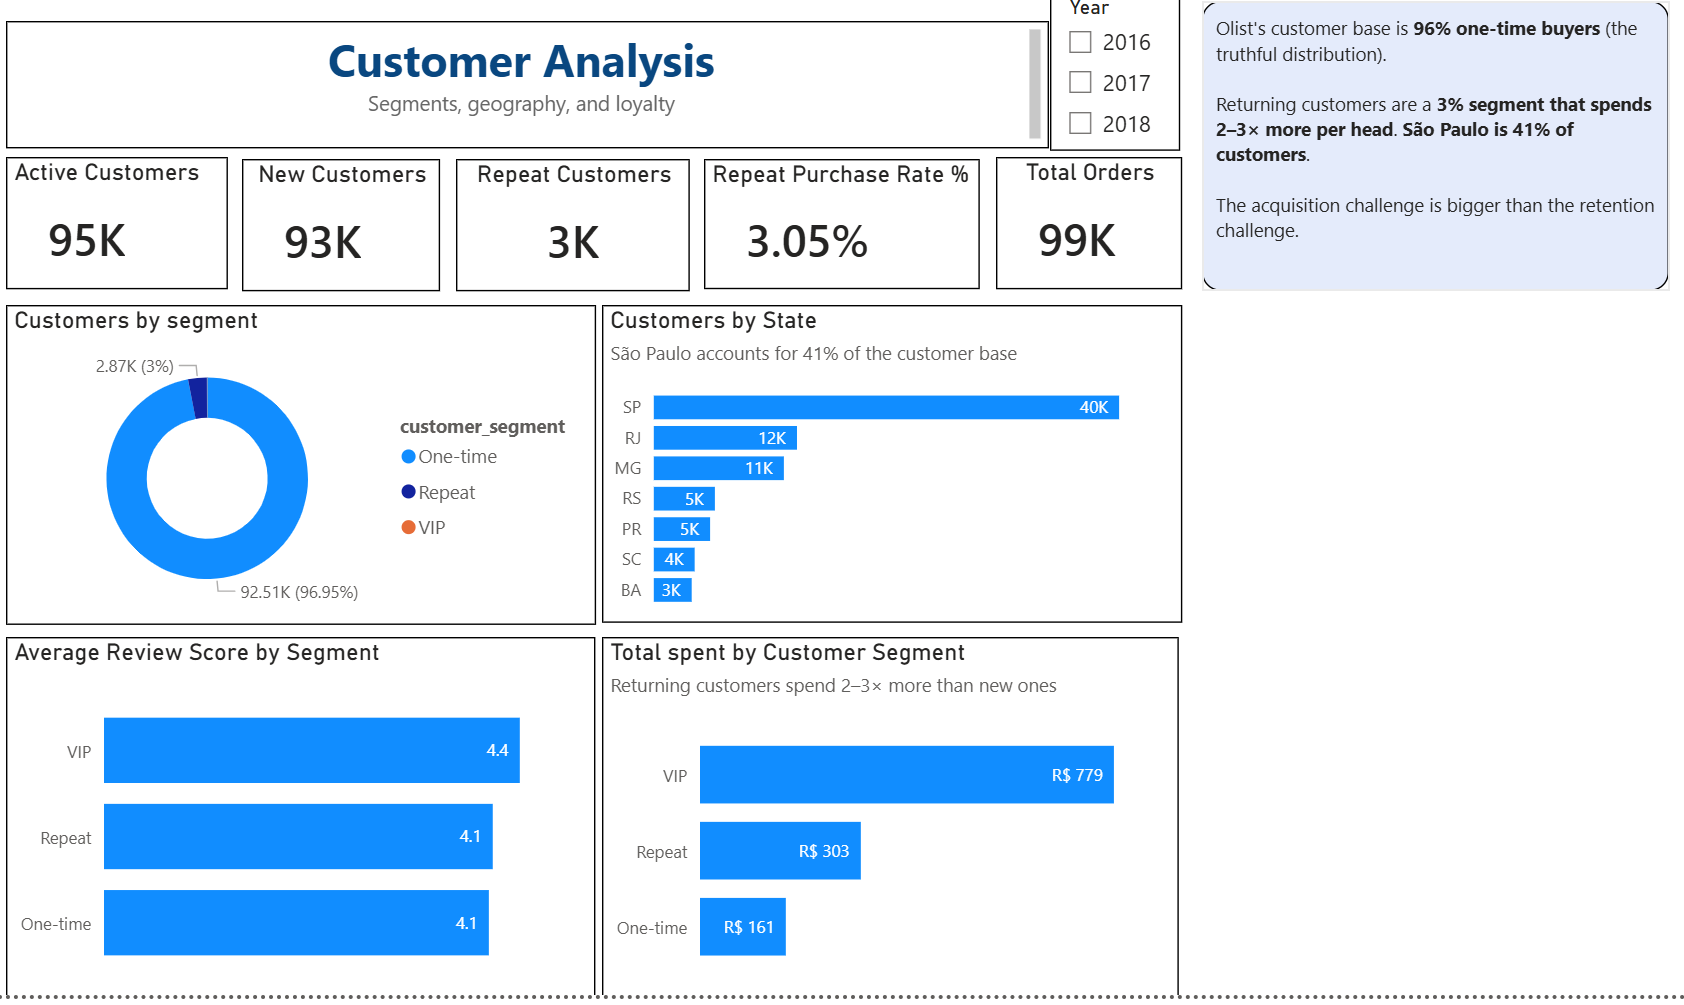

The page's visual inventory and layout, read from the dashboard file:
{"tool":"powerbi","page":{"name":"Customer Analysis","canvas":[1280,720],"ordinal":3},"visuals":[{"type":"cardVisual","title":"Active Customers","fields":{"Data":["orders_enriched.Total Customers"]},"box":[9.3,121.8,157.3,81.7],"z":0},{"type":"donutChart","title":"Customers by segment","fields":{"Category":["customer_segments.customer_segment"],"Y":["CountNonNull(customer_segments.customer_unique_id)"]},"box":[9.3,215.9,421,237.5],"z":1000},{"type":"clusteredBarChart","title":"Total spent by Customer Segment","fields":{"Category":["customer_segments.customer_segment"],"Y":["Avg(customer_segments.total_spent)"]},"box":[434.9,464.2,411.8,257.5],"z":2000},{"type":"clusteredBarChart","title":"Average Review Score by Segment","fields":{"Category":["customer_segments.customer_segment"],"Y":["Avg(customer_segments.avg_review_score)"]},"box":[9.3,464.2,421,260.6],"z":3000},{"type":"clusteredBarChart","title":"Customers by State","fields":{"Y":["CountNonNull(customer_segments.customer_unique_id)"],"Category":["customer_segments.customer_state"]},"box":[434.9,215.9,413.3,237.5],"z":4000},{"type":"textbox","box":[9.3,24.7,744.9,91],"z":5000},{"type":"slicer","fields":{"Values":["DateTable.Year"]},"box":[753.9,0,93,117.1],"z":6000},{"type":"cardVisual","title":"New Customers","fields":{"Data":["orders_enriched.New Customers"]},"box":[177.3,123.4,141.9,81.7],"z":7000},{"type":"cardVisual","title":"Total Orders","fields":{"Data":["Sum(customer_segments.total_orders)"]},"box":[715.6,121.8,132.6,81.7],"z":8000},{"type":"cardVisual","title":"Repeat Purchase Rate %","fields":{"Data":["orders_enriched.Repeat Purchase Rate %"]},"box":[507.4,123.4,197.4,81.7],"z":9000},{"type":"cardVisual","title":"Repeat Customers","fields":{"Data":["orders_enriched.Repeat Customers"]},"box":[330,123.4,166.6,81.7],"z":10000},{"type":"textbox","box":[863,9.6,333.6,206.9],"z":11001}]}

Visuals, with their boxes on the page's 1280x720 design canvas (x1, y1, x2, y2). These are canvas units, not pixel positions in the 1684x1005 screenshot, which may show the page scaled, cropped or inside an application window:
"Active Customers" cardVisual: (left=9, top=122, right=167, bottom=204)
"Customers by segment" donutChart: (left=9, top=216, right=430, bottom=453)
"Total spent by Customer Segment" clusteredBarChart: (left=435, top=464, right=847, bottom=722)
"Average Review Score by Segment" clusteredBarChart: (left=9, top=464, right=430, bottom=725)
"Customers by State" clusteredBarChart: (left=435, top=216, right=848, bottom=453)
textbox: (left=9, top=25, right=754, bottom=116)
slicer - DateTable.Year: (left=754, top=0, right=847, bottom=117)
"New Customers" cardVisual: (left=177, top=123, right=319, bottom=205)
"Total Orders" cardVisual: (left=716, top=122, right=848, bottom=204)
"Repeat Purchase Rate %" cardVisual: (left=507, top=123, right=705, bottom=205)
"Repeat Customers" cardVisual: (left=330, top=123, right=497, bottom=205)
textbox: (left=863, top=10, right=1197, bottom=216)
